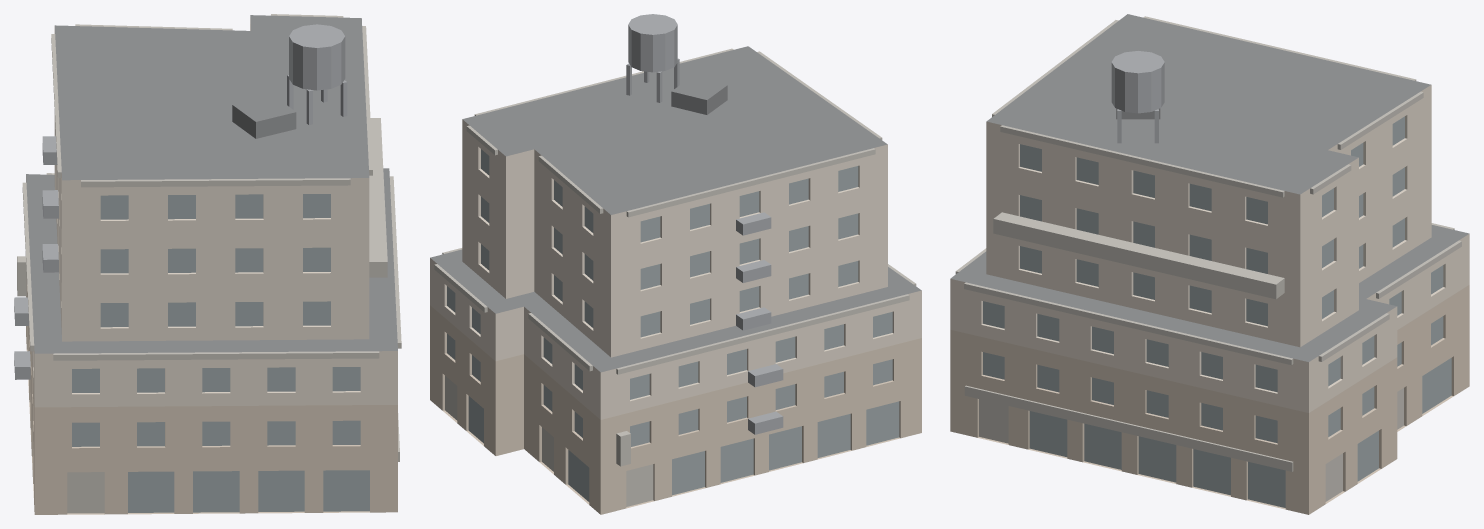
Rendered from doitt-147902__lod_0.glb.
The picture shows the model from 3 angles, left to right: view 1: azimuth 30°, elevation 25°; view 2: azimuth 150°, elevation 25°; view 3: azimuth 270°, elevation 25°; orthographic projection. The views are drawn at different scales.
Bounding box in the file's own units: 33.73 × 28.22 × 35.16.
